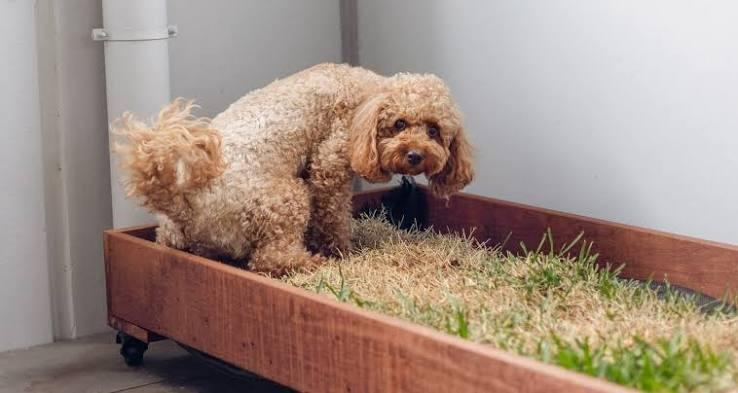adult_dog: (106, 61, 476, 277)
